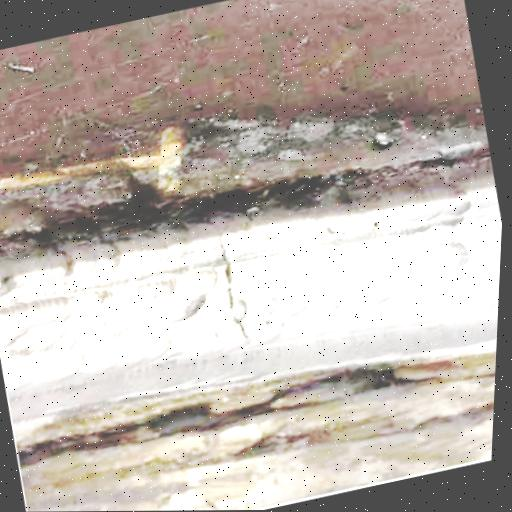crack: (204, 225, 263, 351)
